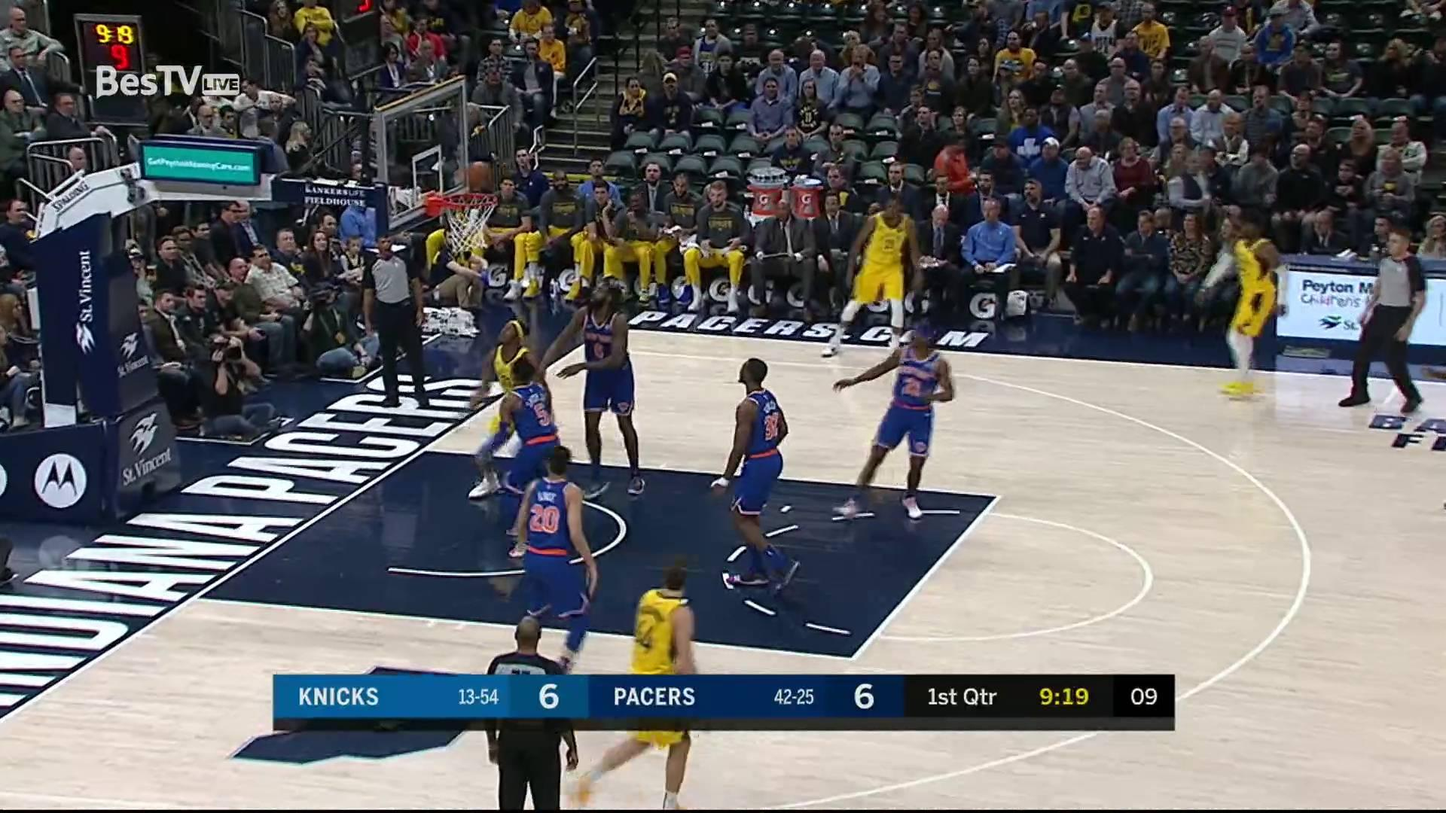basketball: (461, 163, 493, 193)
